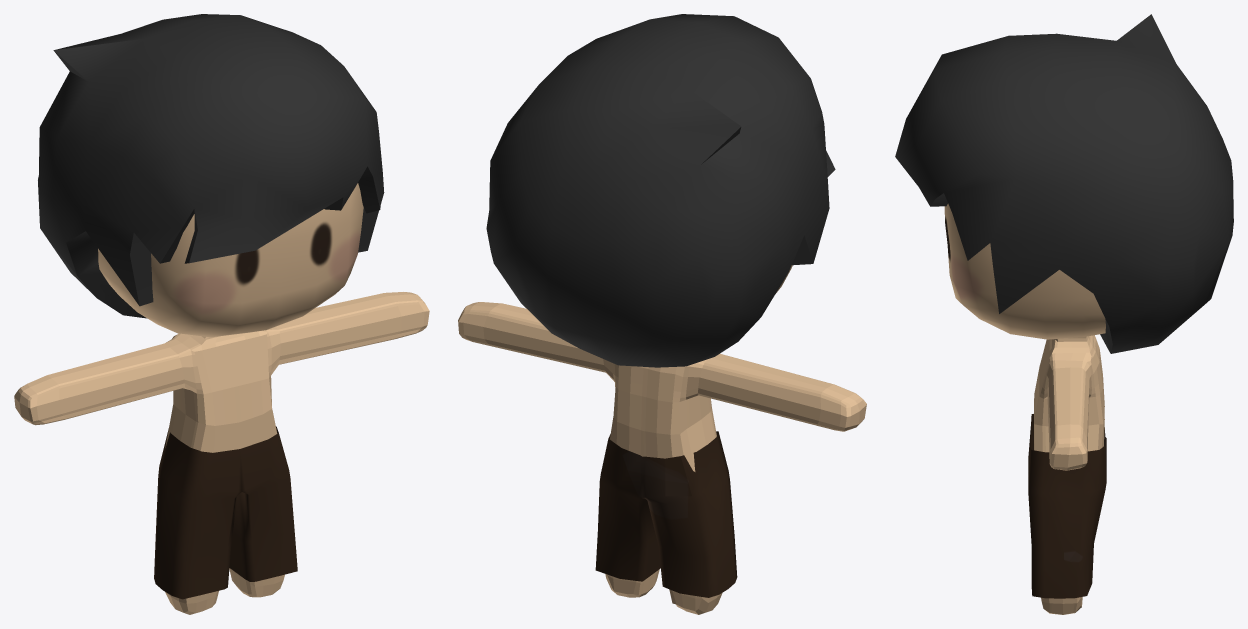
File: npc_penduduk.fbx
3 renders of one model, left to right at view 1: azimuth 30°, elevation 25°; view 2: azimuth 150°, elevation 25°; view 3: azimuth 270°, elevation 25°, orthographic. The views are drawn at different scales.
Parts seen in each view (by area): view 1: ML_dh.001, badan, celana_Puntung, kepala; view 2: ML_dh.001, badan, celana_Puntung; view 3: ML_dh.001, celana_Puntung, badan, kepala.
Part boxes in pixels (<box>): ML_dh.001: <box>38,14,384,318</box>; badan: <box>14,292,429,614</box>; celana_Puntung: <box>154,426,297,599</box>; kepala: <box>98,183,363,337</box>; ML_dh.001: <box>486,14,835,367</box>; badan: <box>458,302,866,614</box>; celana_Puntung: <box>595,431,737,597</box>; ML_dh.001: <box>895,14,1233,353</box>; celana_Puntung: <box>1028,414,1106,598</box>; badan: <box>1034,335,1104,614</box>; kepala: <box>944,203,1105,339</box>.
Size of the model in its own units: 10.57 by 14.24 by 8.05.
